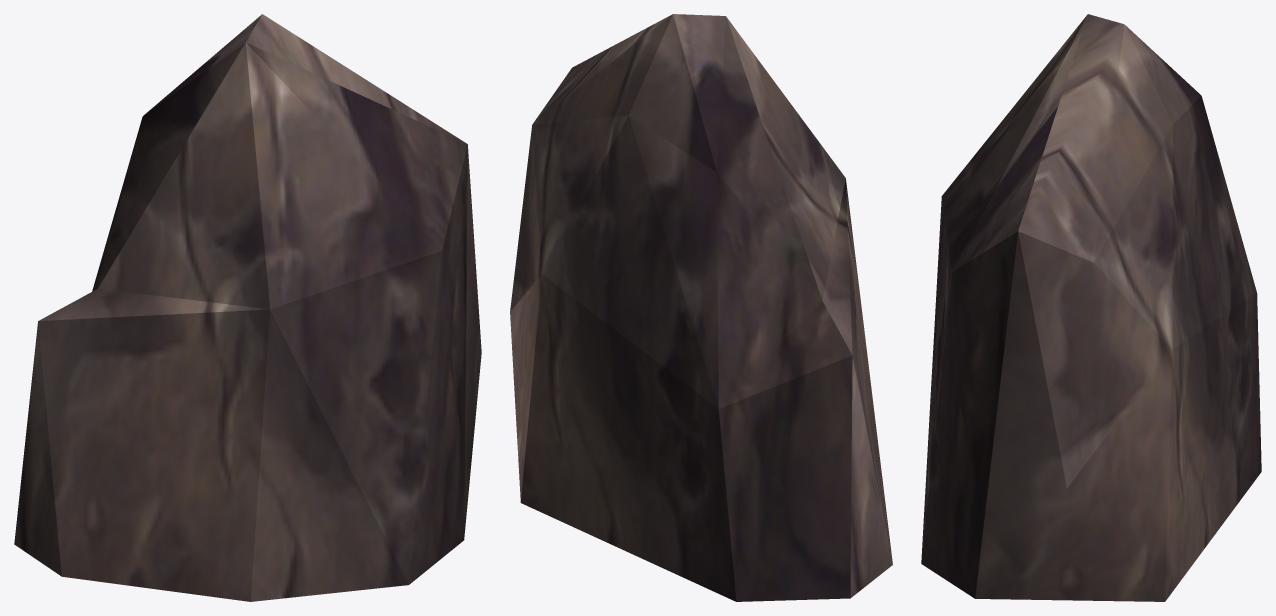
File: shanti_03.FBX
The picture shows the model from 3 angles, left to right: view 1: azimuth 30°, elevation 25°; view 2: azimuth 150°, elevation 25°; view 3: azimuth 270°, elevation 25°; orthographic projection.
Parts seen in each view (by area): view 1: shanti_03; view 2: shanti_03; view 3: shanti_03.
Boxes of the visible parts, left/top/right/bottom form: shanti_03: left=14, top=14, right=481, bottom=601; shanti_03: left=510, top=14, right=892, bottom=601; shanti_03: left=921, top=14, right=1261, bottom=601.
Bounding box in the file's own units: 345 × 416 × 249.
